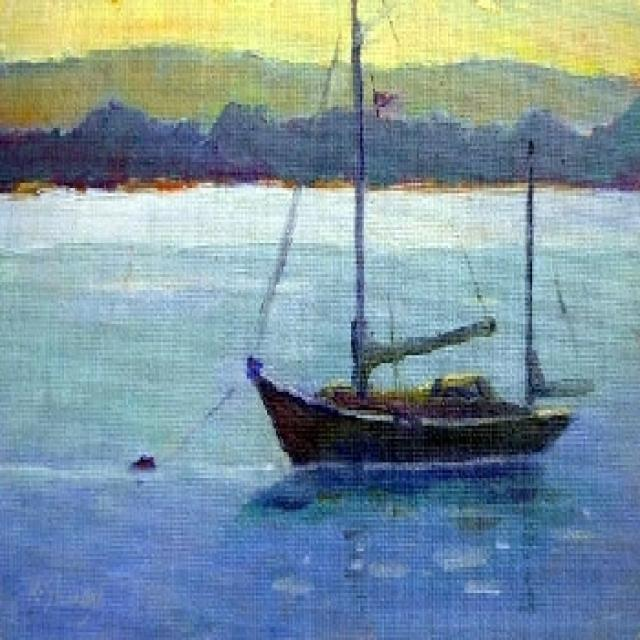Ship: (248, 12, 587, 471)
